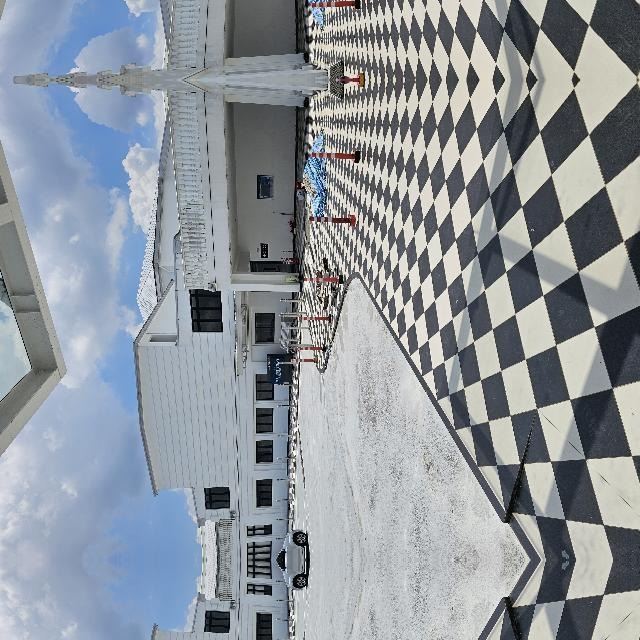obstacle: (392, 388, 416, 442), (330, 384, 348, 442), (274, 381, 290, 427)
